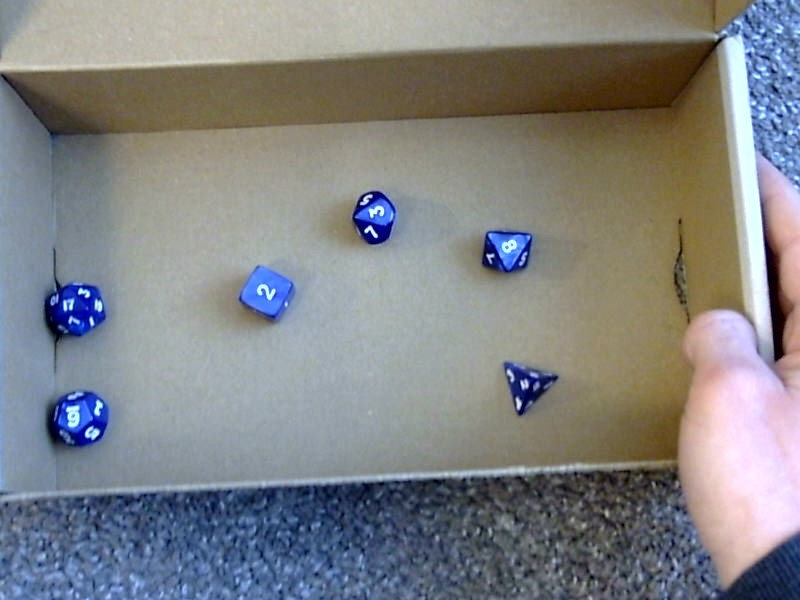d10 3: (343, 186, 403, 247)
d12 6: (37, 383, 112, 450)
d20 17: (36, 274, 114, 344)
d4 2: (490, 343, 563, 422)
d6 2: (230, 257, 300, 324)
d8 8: (474, 222, 538, 276)
